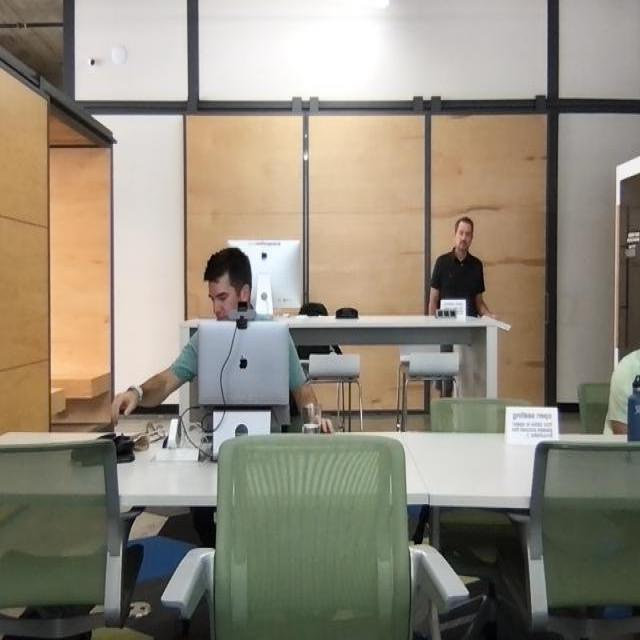face: (207, 270, 241, 322), (453, 218, 476, 254)
